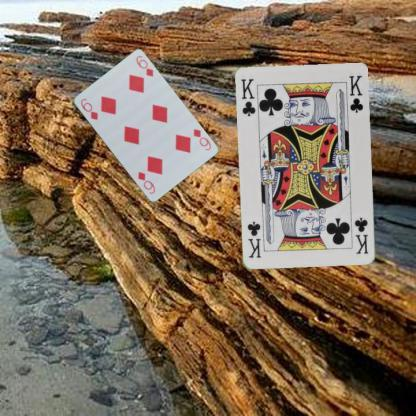6d: (77, 96, 99, 122), (190, 126, 212, 152)
Kc: (239, 76, 257, 118), (352, 215, 370, 255)
